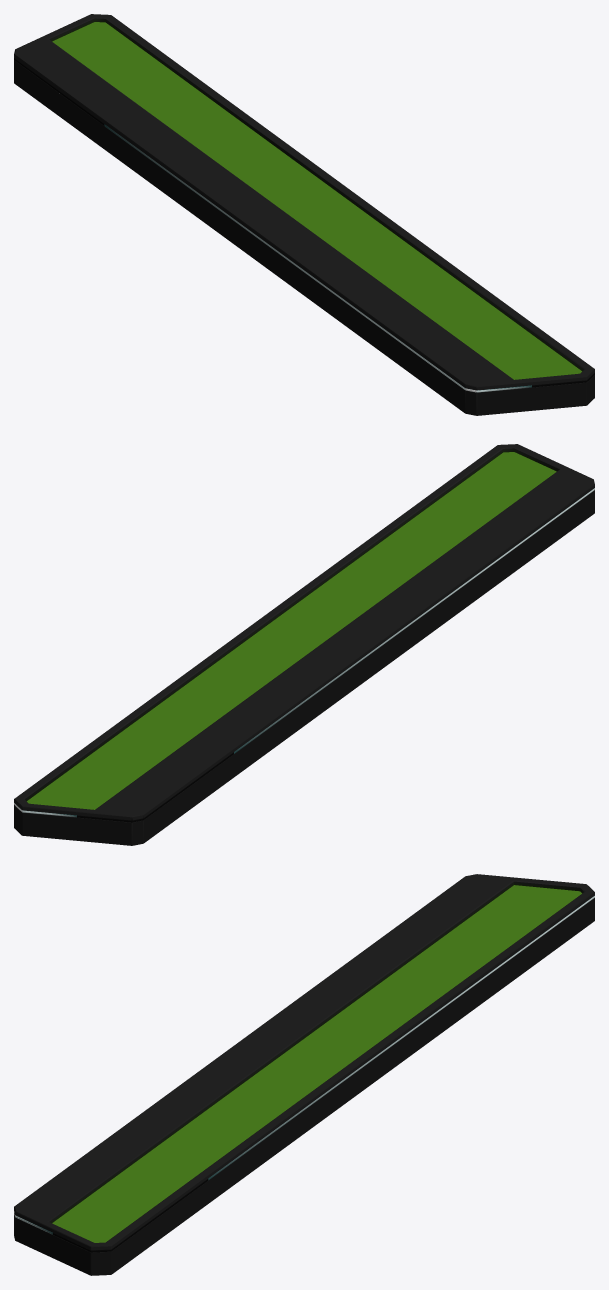
Rendered from W_O_maze_Glassbed_L0.fbx.
3 renders of one model, top to bottom at view 1: azimuth 30°, elevation 25°; view 2: azimuth 150°, elevation 25°; view 3: azimuth 330°, elevation 25°, orthographic.
Parts seen in each view (by area): view 1: W_O_maze_Glassbed_L0; view 2: W_O_maze_Glassbed_L0; view 3: W_O_maze_Glassbed_L0.
Part boxes in pixels (left/top/right/bottom): W_O_maze_Glassbed_L0: left=14, top=14, right=594, bottom=415; W_O_maze_Glassbed_L0: left=14, top=444, right=594, bottom=845; W_O_maze_Glassbed_L0: left=14, top=874, right=594, bottom=1275.
Size of the model in its own units: 0.8177 by 6.18 by 0.1997.
